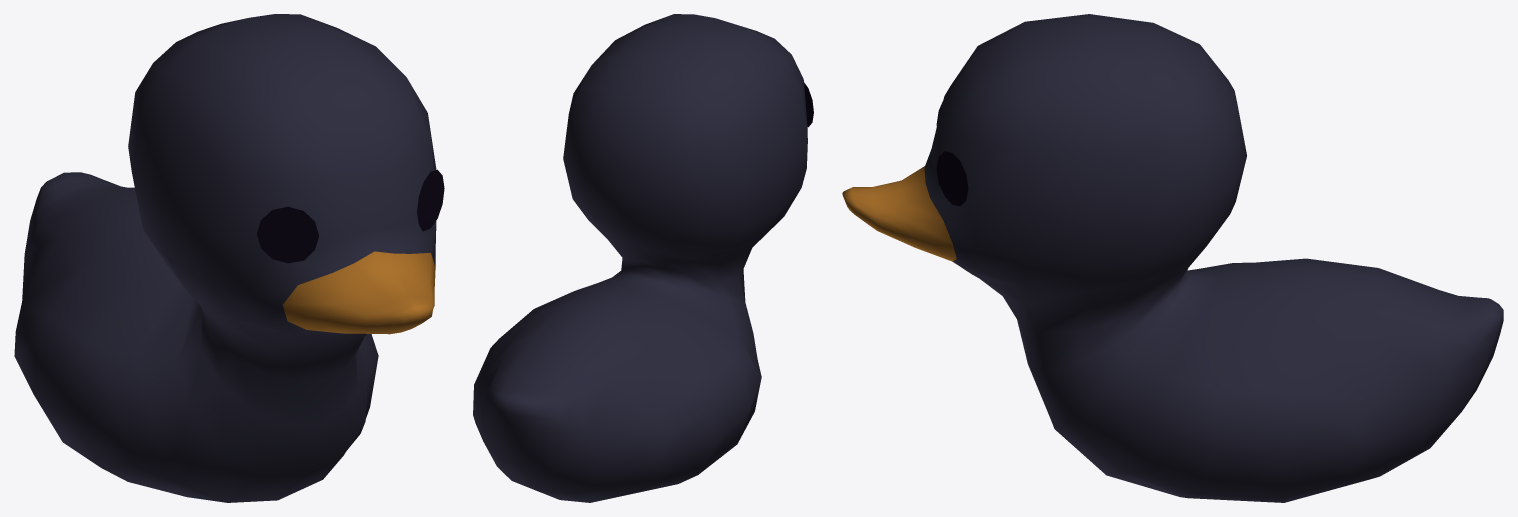
File: Duck_Black.fbx
3 views of the same model, side by side, from view 1: azimuth 30°, elevation 25°; view 2: azimuth 150°, elevation 25°; view 3: azimuth 270°, elevation 25° (orthographic). The views are drawn at different scales.
Parts seen in each view (by area): view 1: Duck_Black; view 2: Duck_Black; view 3: Duck_Black.
Boxes of the visible parts, x1,y1,x2,y2 form: Duck_Black: [14, 14, 444, 502]; Duck_Black: [473, 14, 813, 502]; Duck_Black: [842, 14, 1503, 502].
Size of the model in its own units: 76.94 by 124 by 165.
